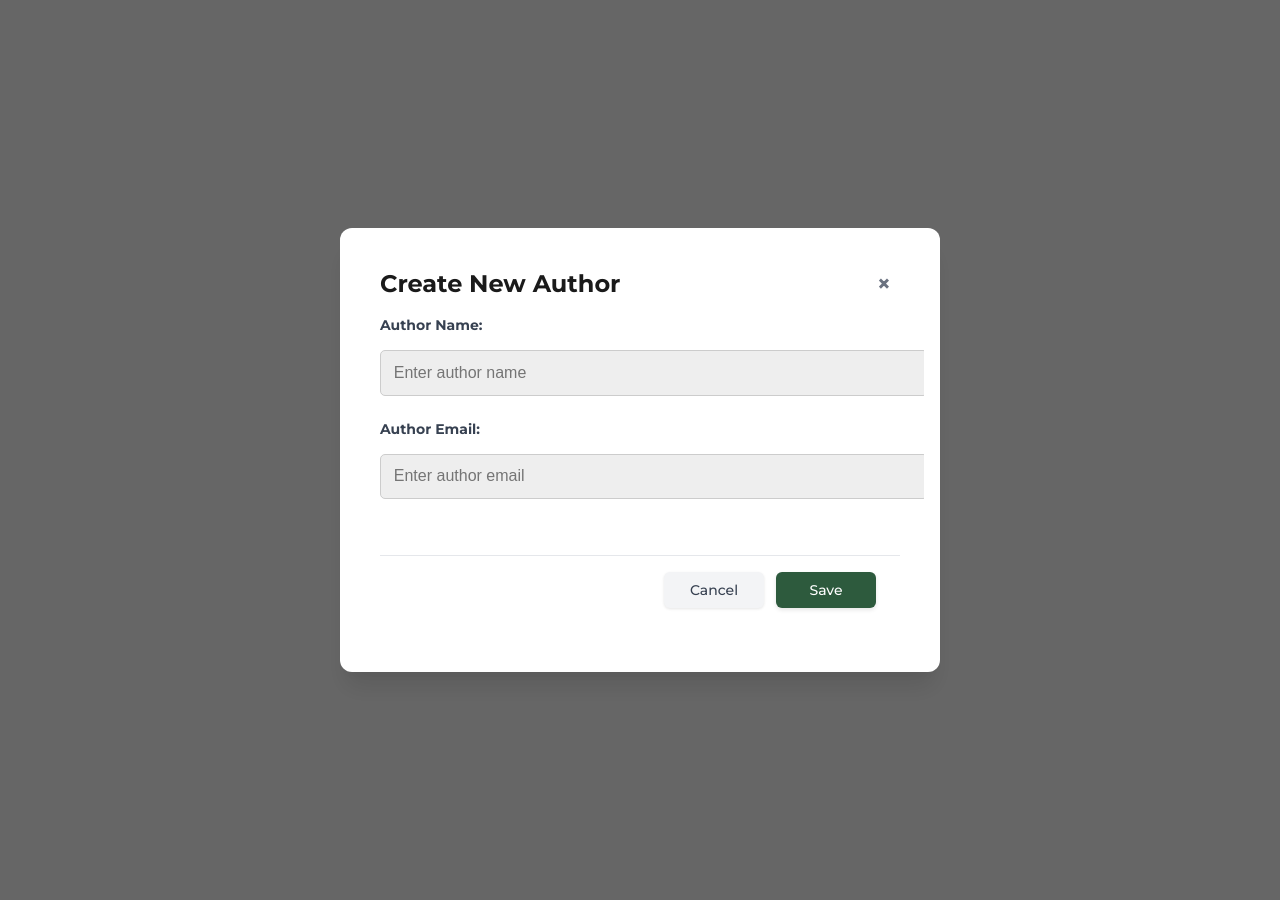
Scenario: AuthorModal › exibe erro quando email é inválido
The image size is (1280, 900).
Type "João" into the field with placeholder "Enter author name" at (654, 373), box [380, 350, 928, 396]
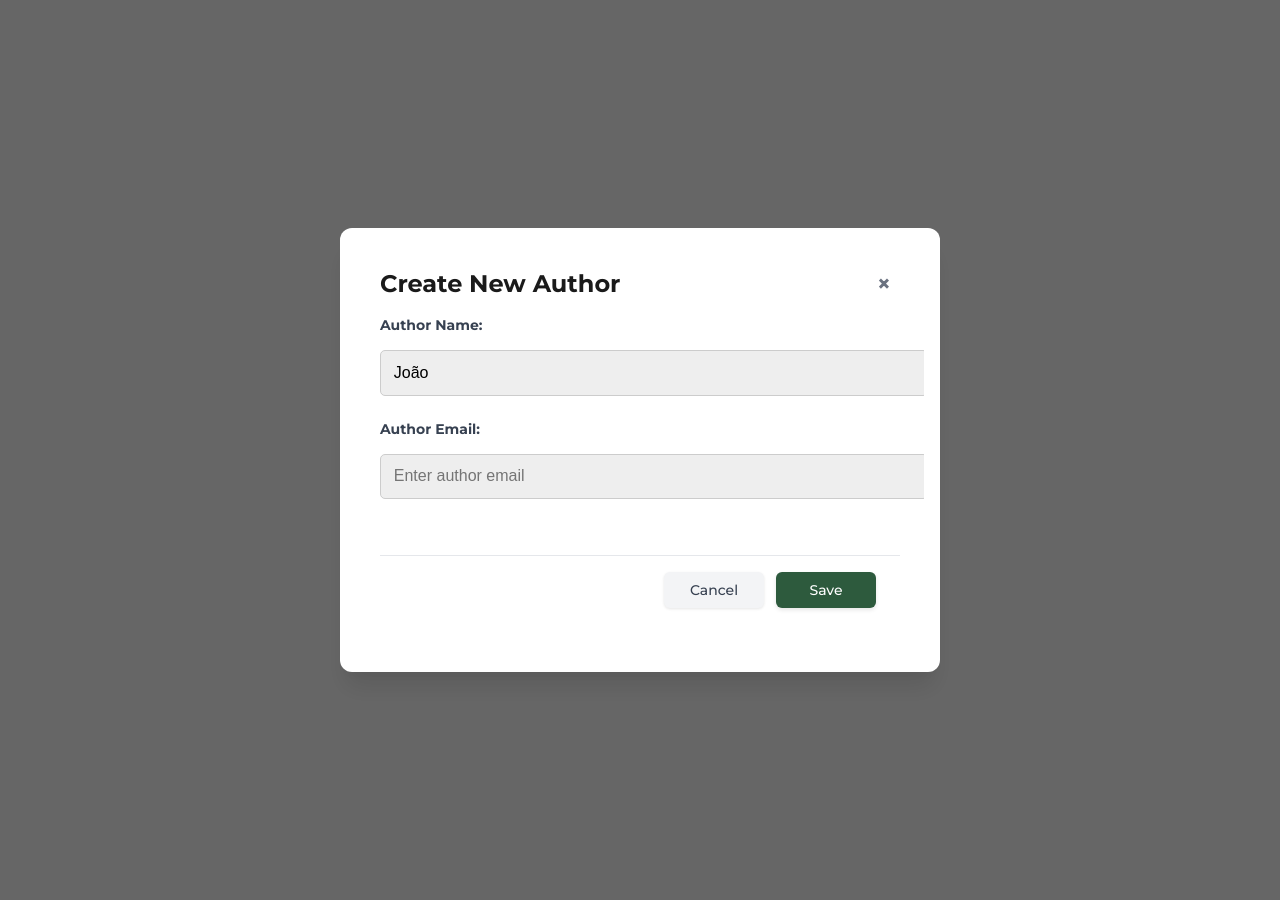
Type "email-invalido" into the field with placeholder "Enter author email" at (654, 476), box [380, 454, 928, 499]
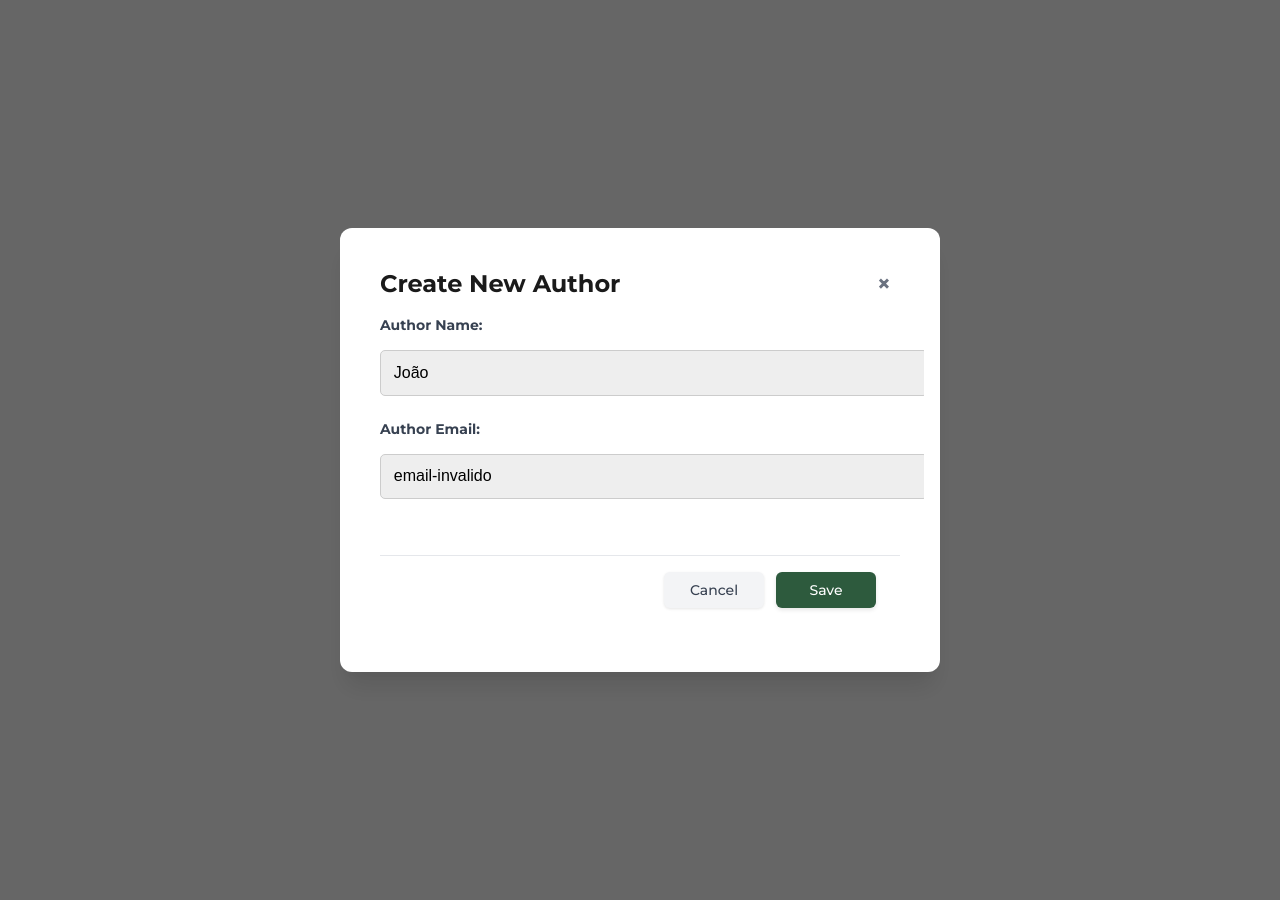
Click the button "Save" at (826, 590), box [776, 572, 876, 608]
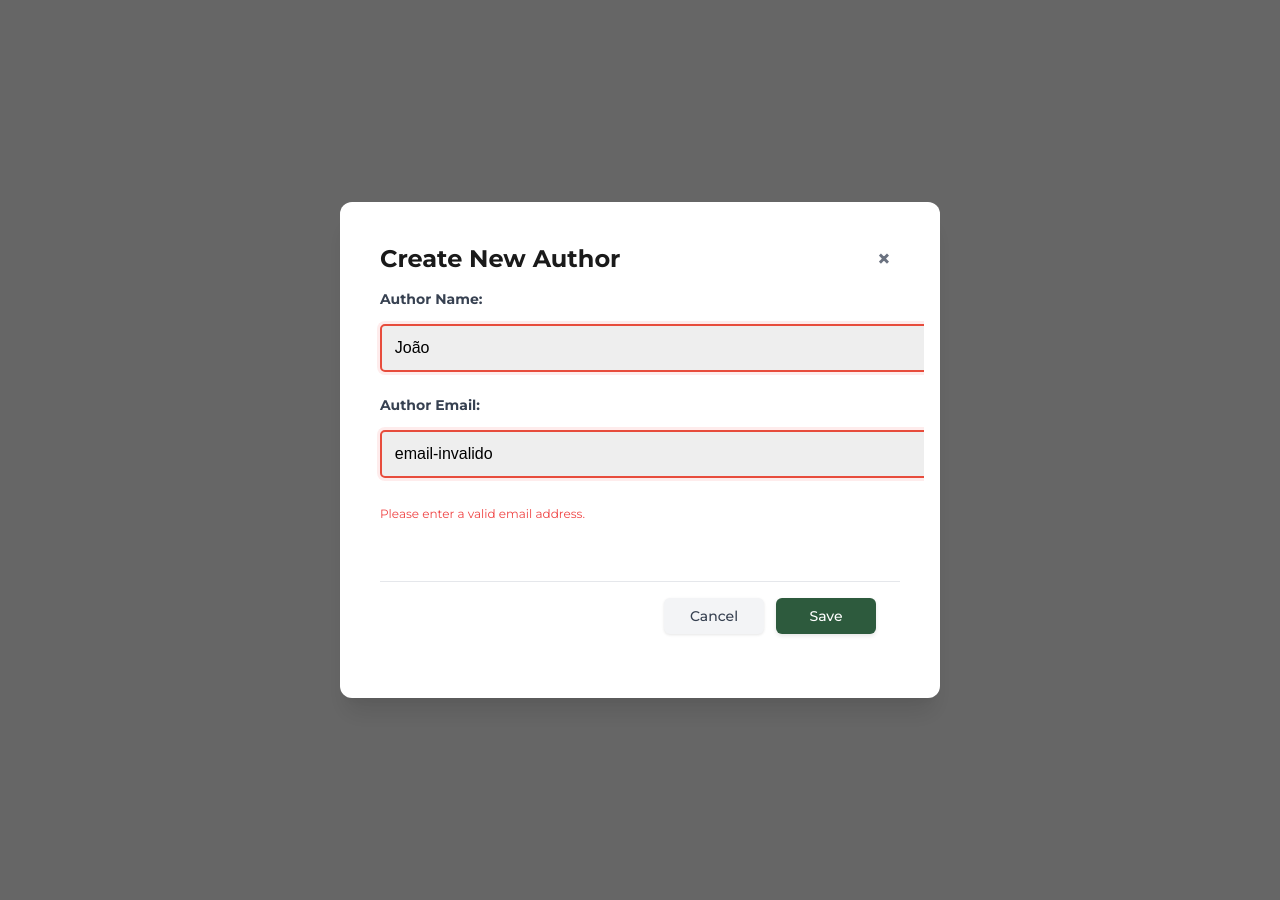
Check: the text "Please enter a valid email address." is shown, box [380, 506, 585, 521]
